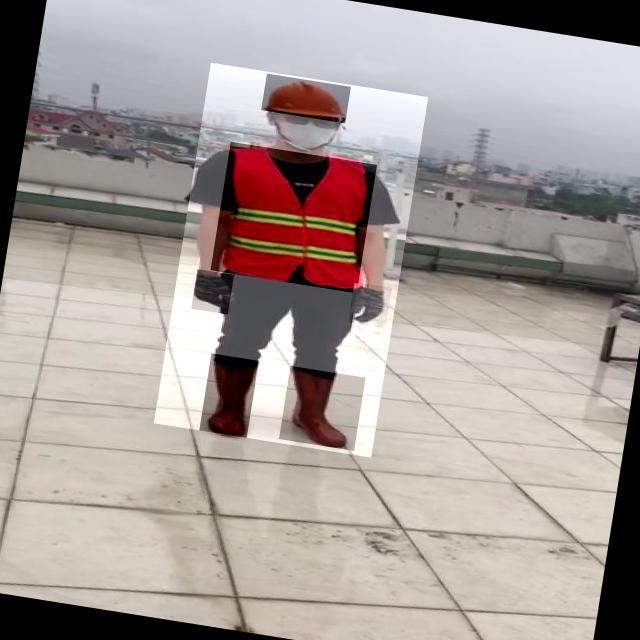Gloves: (349, 283, 393, 328), (192, 271, 236, 315)
Helmet: (261, 75, 351, 124)
Human: (154, 63, 429, 459)
Safety Boot: (279, 367, 365, 451), (200, 355, 259, 439)
Safety Vest: (211, 143, 377, 294)
